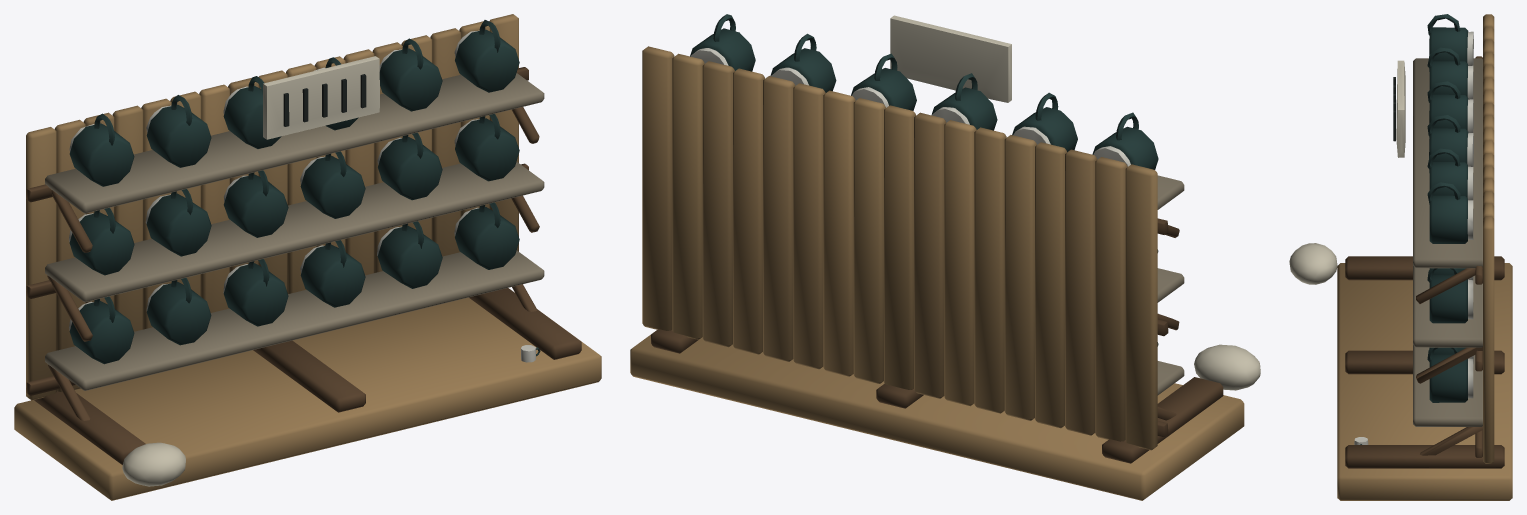
The model's file is lamp_rack_a_lod1.glb.
3 views of the same model, side by side, from view 1: azimuth 30°, elevation 25°; view 2: azimuth 150°, elevation 25°; view 3: azimuth 270°, elevation 25° (orthographic). The views are drawn at different scales.
Visible parts, largest first — view 1: Surface.001; view 2: Surface.001; view 3: Surface.001.
Boxes of the visible parts, left/top/right/bottom form: Surface.001: left=14, top=14, right=601, bottom=500; Surface.001: left=630, top=14, right=1260, bottom=500; Surface.001: left=1289, top=14, right=1512, bottom=500.
Size of the model in its own units: 6.5 by 4.31 by 2.8.
